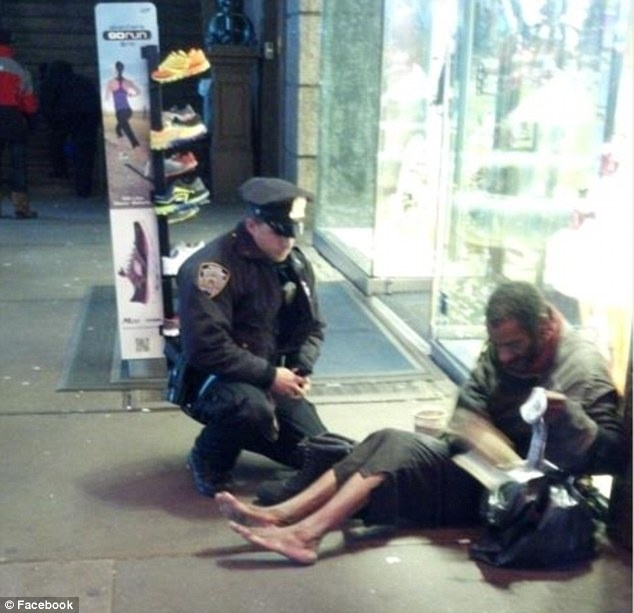falling: (195, 243, 632, 573)
